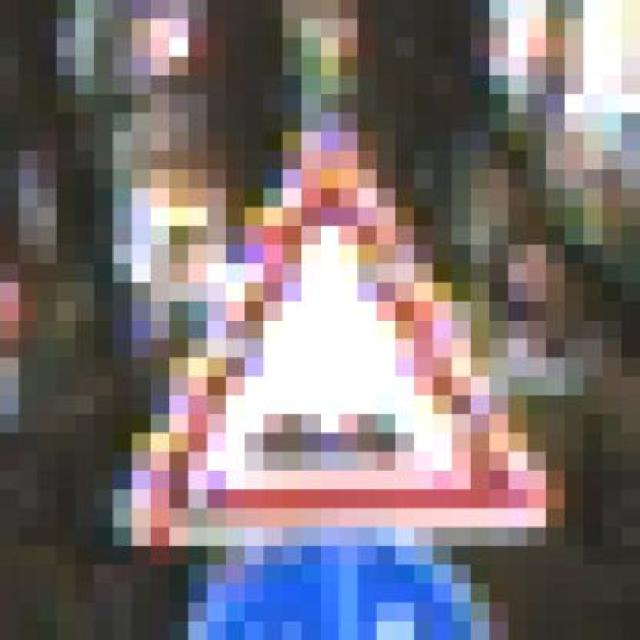Uneven Road: (112, 112, 565, 546)
